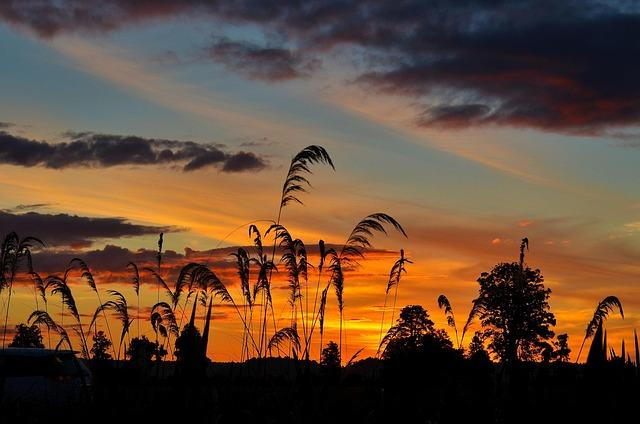Non_Gorille: (26, 89, 599, 386)
